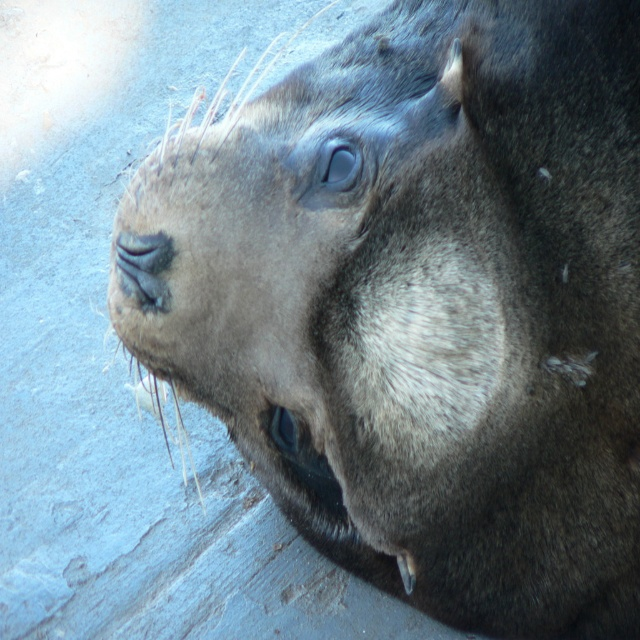Sea lion: (102, 0, 640, 639)
